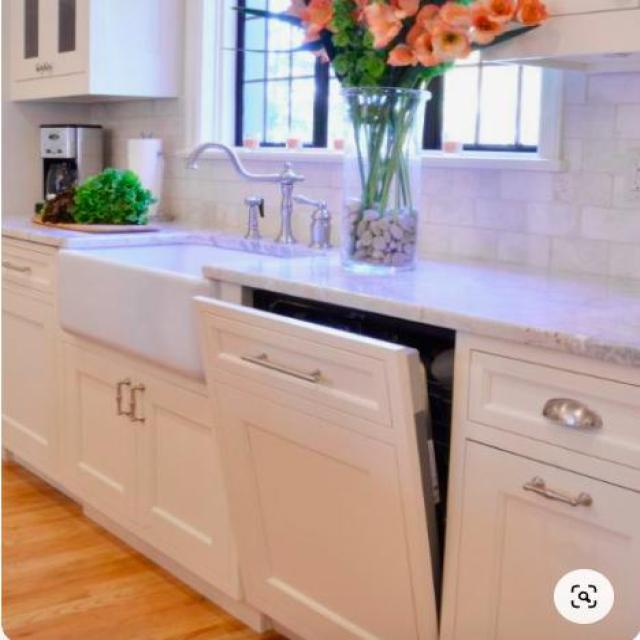dishwasher: (185, 268, 465, 639)
